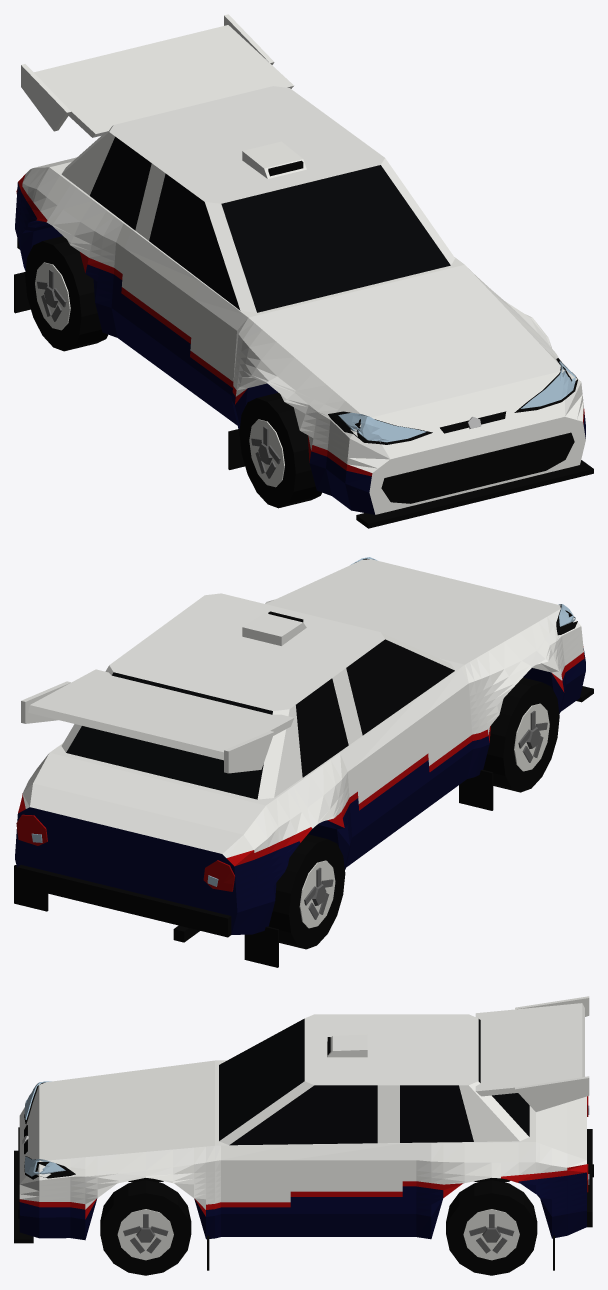
File: peugeot-206-wrc.glb
The picture shows the model from 3 angles, top to bottom: view 1: azimuth 30°, elevation 25°; view 2: azimuth 150°, elevation 25°; view 3: azimuth 270°, elevation 25°; orthographic projection. The views are drawn at different scales.
Parts seen in each view (by area): view 1: body, cabin, cabin-body, wing, body-blue, mouth, wheel-back-right, wheel-front-right, splitter, body-red, wing-plate-right, roof-scoop (+4 smaller); view 2: body, body-blue, cabin-body, cabin, wing, bumper-rear, wheel-front-right, wheel-back-right, body-red, wing-plate-right, roof-scoop, rim-back-right (+7 smaller); view 3: body, cabin, cabin-body, body-blue, wing, wheel-back-left, wheel-front-left, body-red, wing-plate-left, rim-front-left, rim-back-left, roof-scoop (+4 smaller).
Boxes of the visible parts, x1,y1,x2,y2 form: body: [22, 157, 585, 514]; cabin: [90, 136, 450, 312]; cabin-body: [61, 86, 455, 312]; wing: [34, 25, 293, 137]; body-blue: [15, 182, 585, 514]; mouth: [381, 432, 574, 503]; wheel-back-right: [25, 236, 107, 351]; wheel-front-right: [239, 392, 321, 508]; splitter: [356, 460, 593, 528]; body-red: [18, 174, 584, 476]; wing-plate-right: [21, 64, 71, 131]; roof-scoop: [242, 141, 306, 178]; body: [22, 559, 583, 857]; body-blue: [15, 648, 585, 934]; cabin-body: [61, 593, 454, 799]; cabin: [66, 639, 454, 799]; wing: [28, 669, 293, 760]; bumper-rear: [17, 865, 231, 937]; wheel-front-right: [483, 677, 559, 792]; wheel-back-right: [268, 834, 345, 949]; body-red: [18, 646, 584, 866]; wing-plate-right: [224, 731, 274, 773]; roof-scoop: [242, 613, 306, 645]; rim-back-right: [299, 860, 335, 928]; body: [19, 1060, 586, 1209]; cabin: [219, 1018, 529, 1145]; cabin-body: [219, 1014, 528, 1144]; body-blue: [19, 1172, 586, 1240]; wing: [475, 1003, 584, 1096]; wheel-back-left: [446, 1180, 537, 1275]; wheel-front-left: [100, 1180, 191, 1275]; body-red: [19, 1164, 586, 1219]; wing-plate-left: [515, 1076, 589, 1111]; rim-front-left: [117, 1209, 173, 1260]; rim-back-left: [463, 1209, 519, 1260]; roof-scoop: [327, 1034, 367, 1057].
Size of the model in its own units: 1.81 by 1.47 by 4.14.
